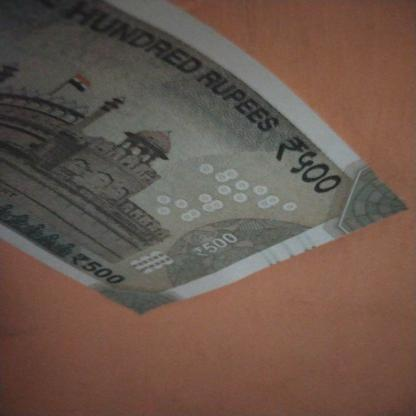New500Back: (0, 0, 359, 308)
